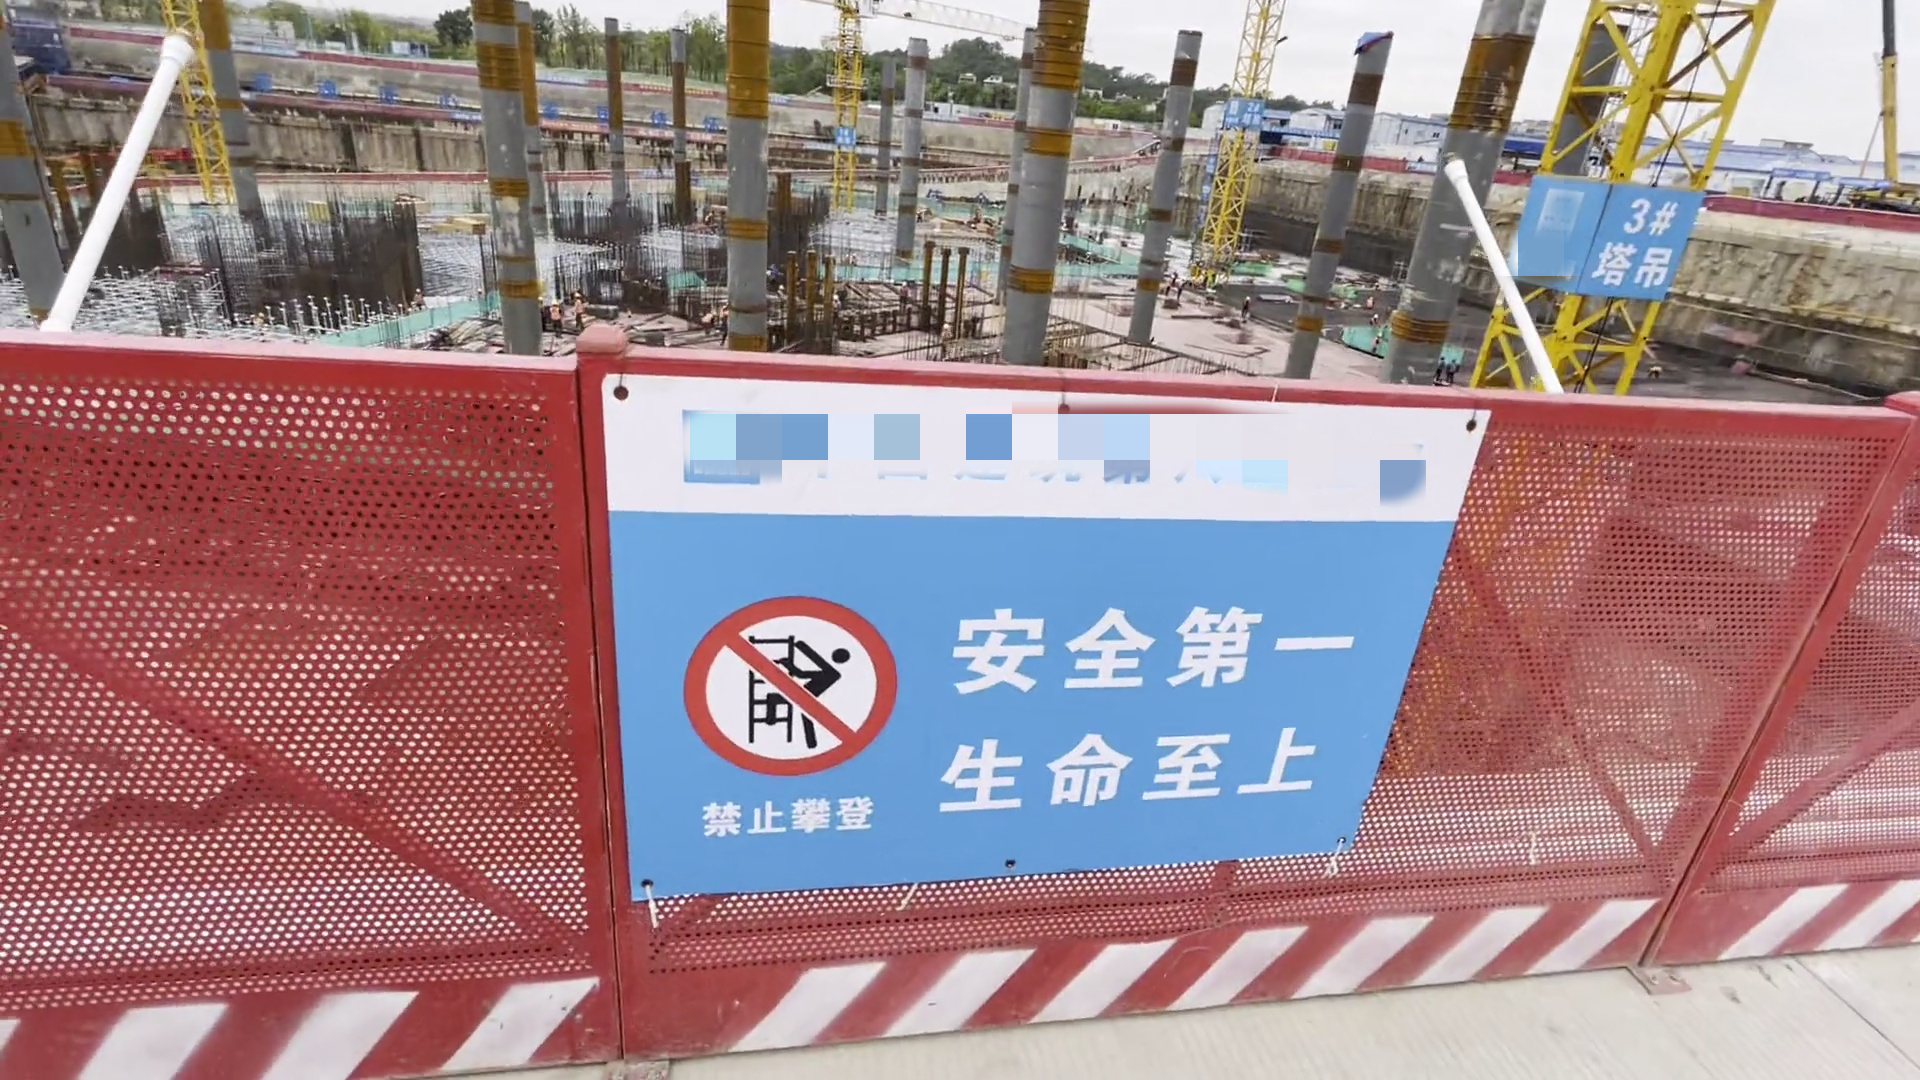fence: (1, 335, 1920, 1017)
slogan: (591, 436, 1389, 902)
